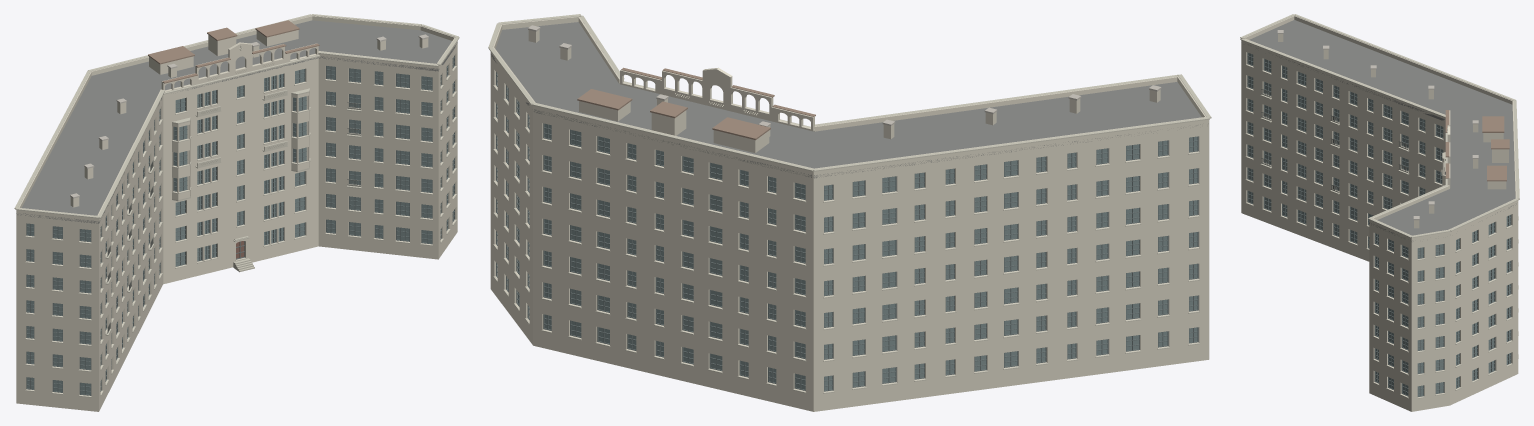
The model's file is jingan-brookside-apartments-raw.glb.
3 renders of one model, left to right at view 1: azimuth 30°, elevation 25°; view 2: azimuth 150°, elevation 25°; view 3: azimuth 270°, elevation 25°, orthographic. The views are drawn at different scales.
Visible parts, largest first — view 1: 枕流公寓; view 2: 枕流公寓; view 3: 枕流公寓.
Boxes of the visible parts, x1,y1,x2,y2 form: 枕流公寓: (14, 14, 459, 411); 枕流公寓: (488, 14, 1211, 411); 枕流公寓: (1240, 14, 1519, 411).
Bounding box in the file's own units: 69.29 × 28.89 × 36.66.
